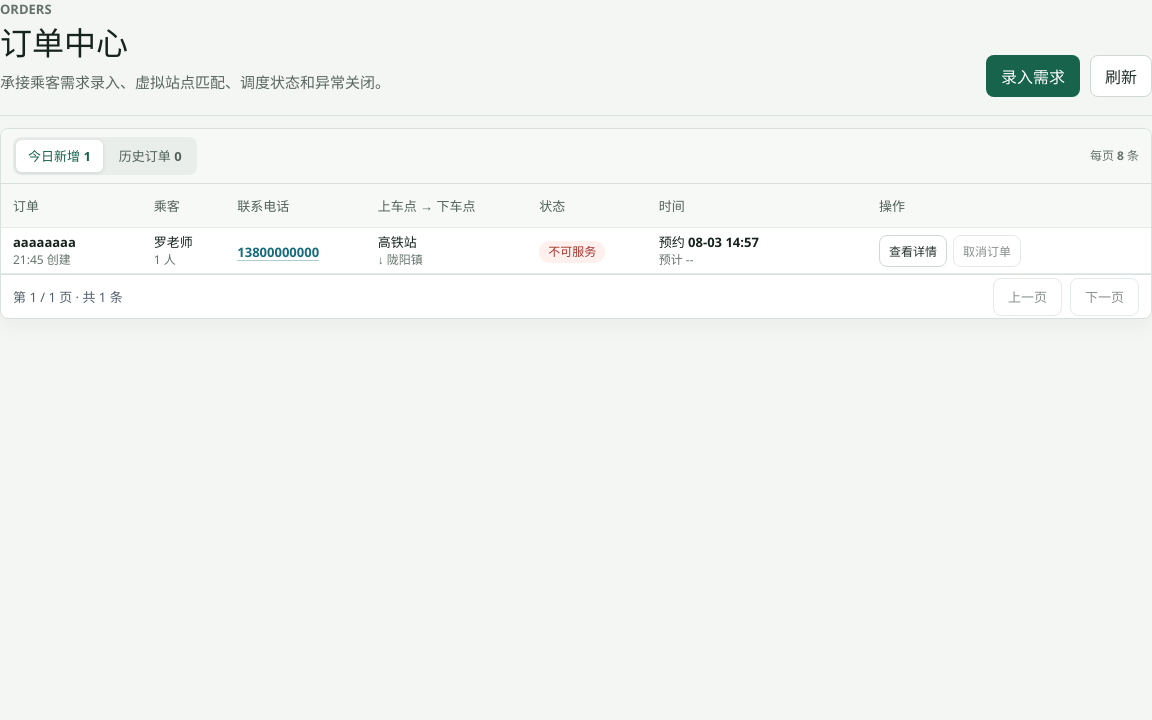
Test case: OrdersPage › 在详情抽屉展示不可服务订单的完整诊断
Expected: the text "不可服务" is shown, [539,241,605,263]
Expected: the text "所有候选方案均未满足调度约束" is not shown
Click the button "查看详情" at coordinates (913, 251), box [879,235,947,267]
(page scrolled)
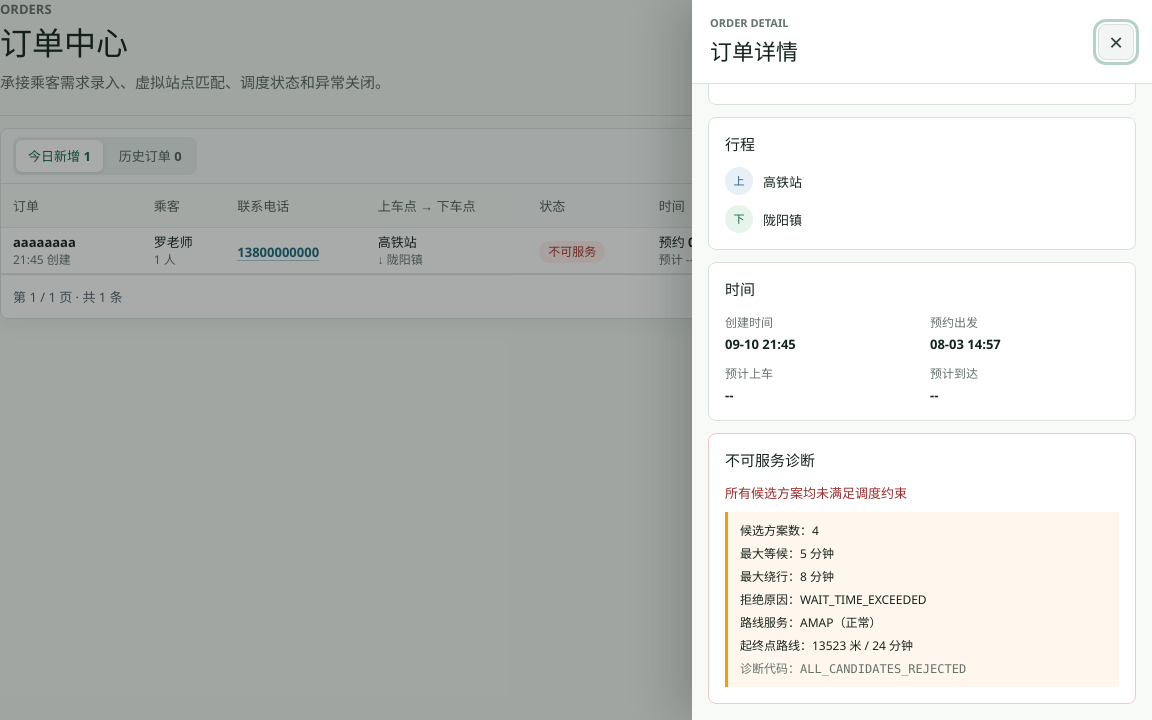
Expected: the dialog "订单详情" is shown, [692,0,1151,719]
Expected: the text "所有候选方案均未满足调度约束" is shown, [725,484,907,502]
Expected: the text "候选方案数：4" is shown, [740,522,819,539]
